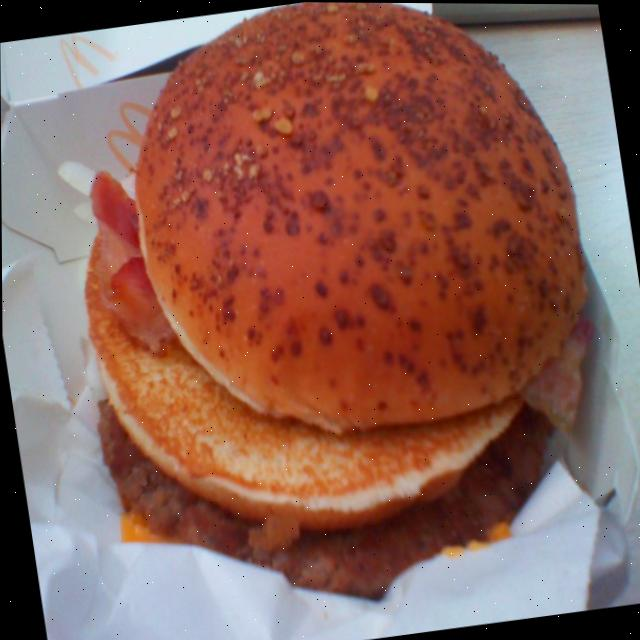汉堡快餐: (19, 0, 640, 640)
